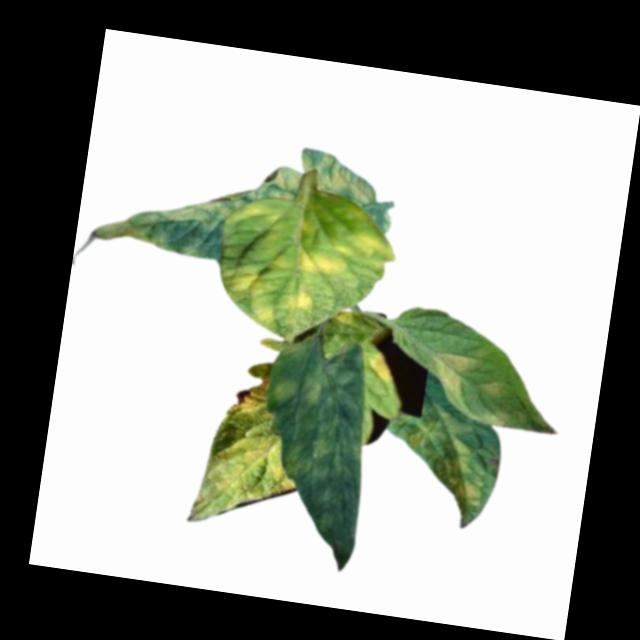Leaf_Mold: (209, 183, 401, 350), (249, 339, 382, 570), (185, 423, 303, 537), (82, 173, 229, 261), (393, 403, 493, 519), (294, 147, 384, 210), (226, 373, 269, 421), (430, 351, 470, 392), (364, 347, 398, 386), (473, 378, 507, 401)
